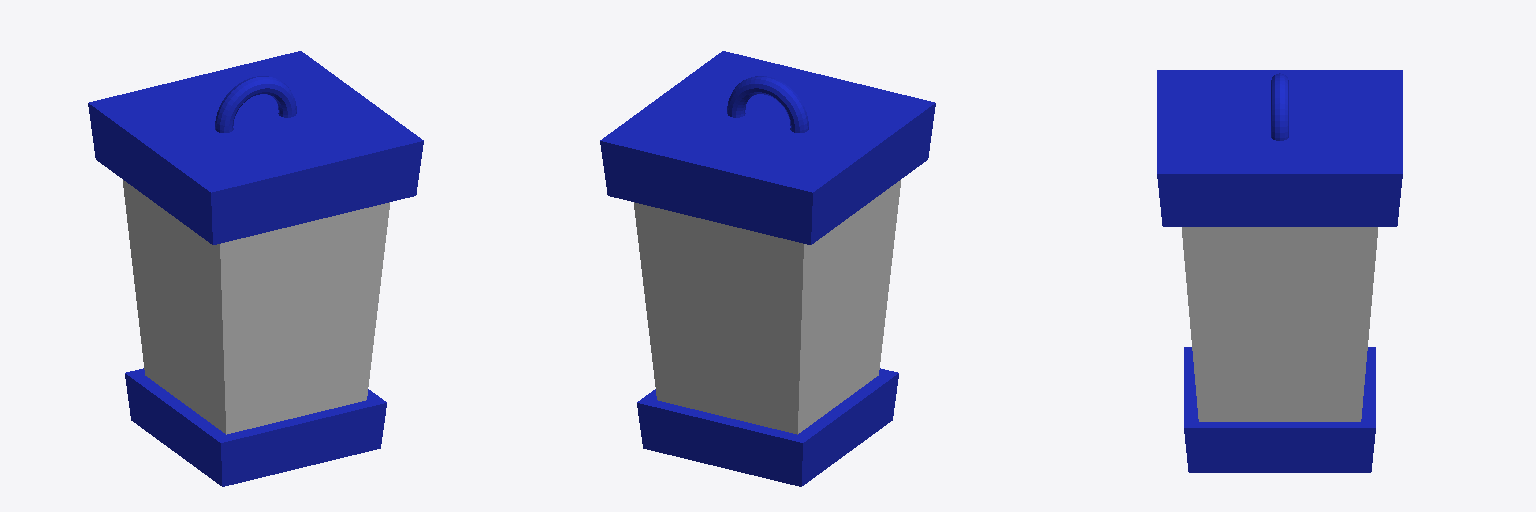
The model's file is lantern.obj.
3 views of the same model, side by side, from view 1: azimuth 30°, elevation 25°; view 2: azimuth 150°, elevation 25°; view 3: azimuth 270°, elevation 25° (orthographic).
Parts seen in each view (by area): view 1: Torus; view 2: Torus; view 3: Torus.
Part boxes in pixels (bbox=[...]): Torus: bbox=[88, 51, 423, 486]; Torus: bbox=[600, 51, 935, 486]; Torus: bbox=[1157, 70, 1402, 472].
Size of the model in its own units: 0.682 by 1.09 by 0.682.